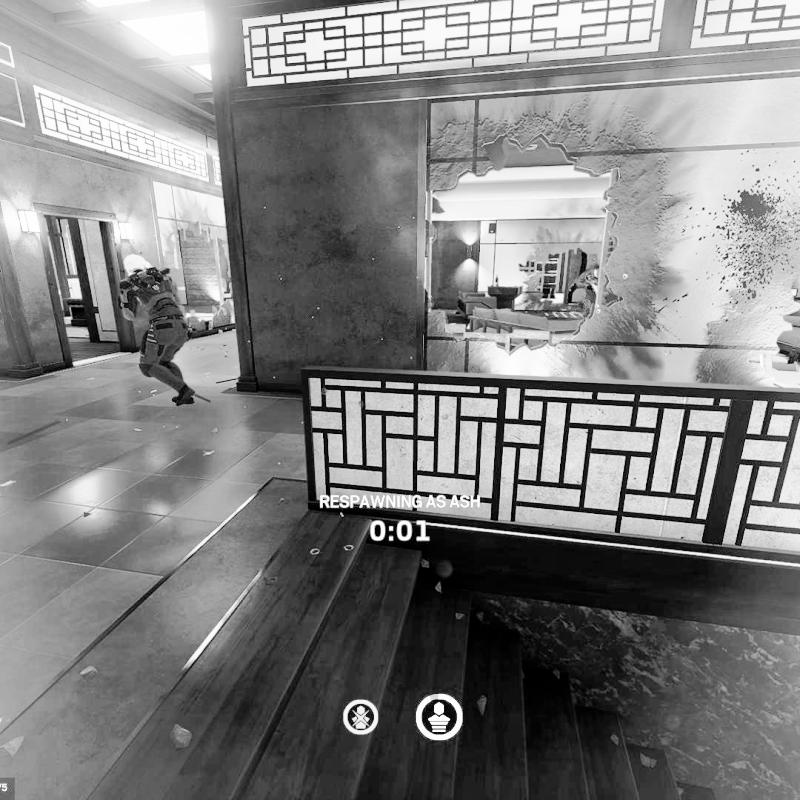Character: (117, 253, 199, 407), (576, 260, 601, 323)
Head: (122, 254, 152, 274), (592, 264, 600, 278)
